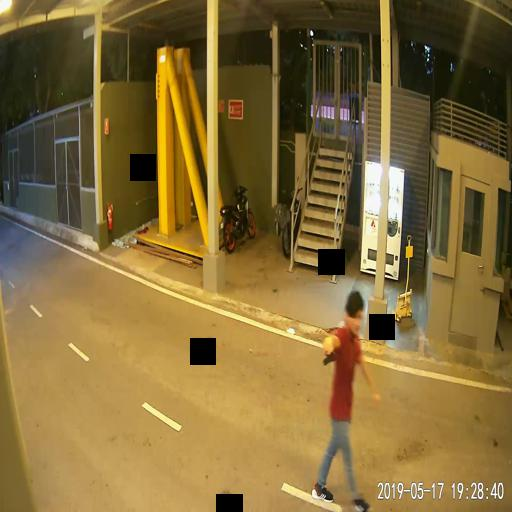Handgun: (321, 338, 336, 364)
